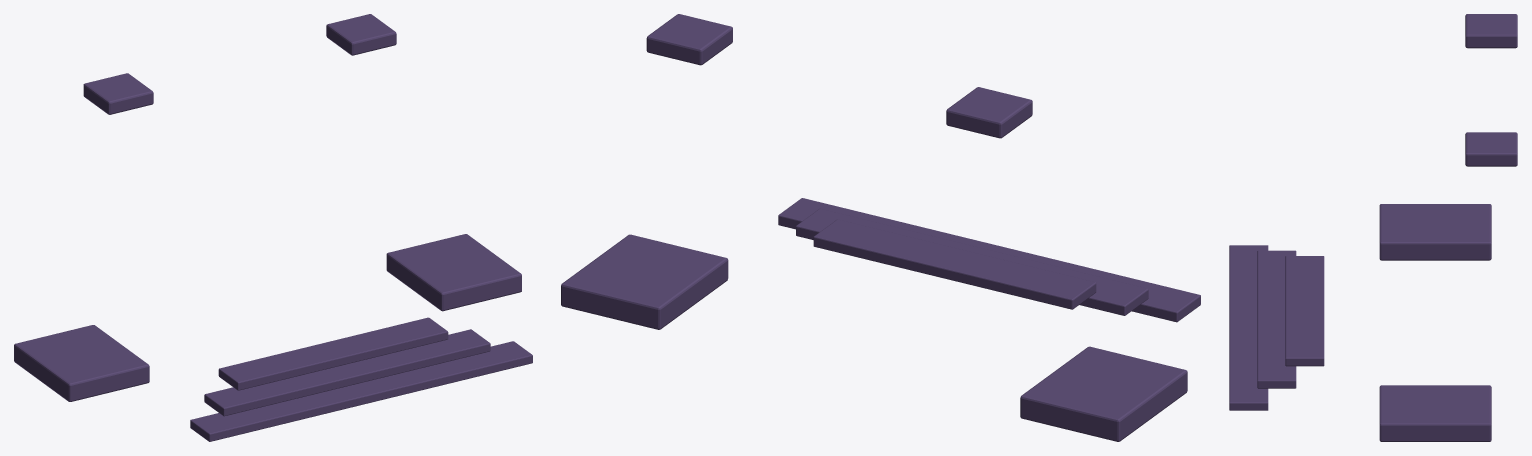
Rendered from Stage_StageTrim.fbx.
3 views of the same model, side by side, from view 1: azimuth 30°, elevation 25°; view 2: azimuth 150°, elevation 25°; view 3: azimuth 270°, elevation 25° (orthographic). The views are drawn at different scales.
Parts seen in each view (by area): view 1: StageStep0.001; view 2: StageStep0.001; view 3: StageStep0.001.
Part boxes in pixels (x1=…): StageStep0.001: x1=14, y1=14, x2=532, y2=441; StageStep0.001: x1=561, y1=14, x2=1200, y2=441; StageStep0.001: x1=1229, y1=14, x2=1517, y2=441.
Bounding box in the file's own units: 5600 × 2940 × 3090.
